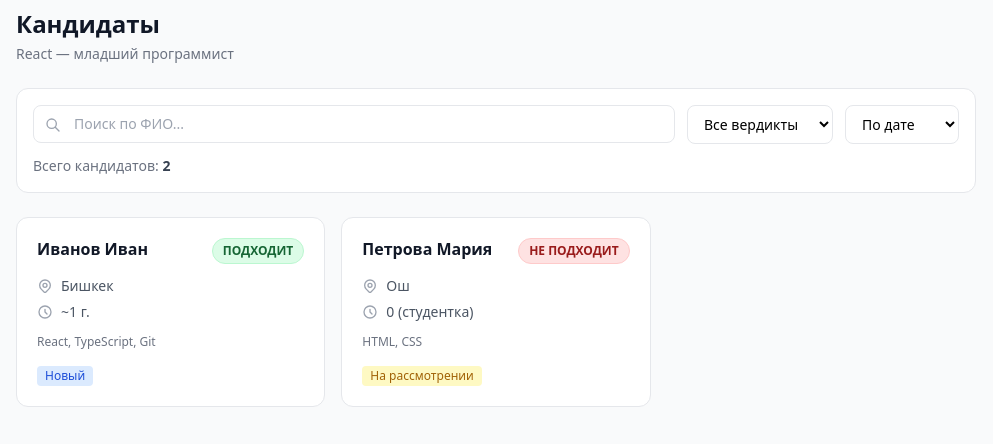
Test: CandidatesPage › shows an empty state when no candidates match
Type "Нет такого" into the search field with placeholder "Поиск по ФИО..." at (354, 124), box [33,105,675,143]
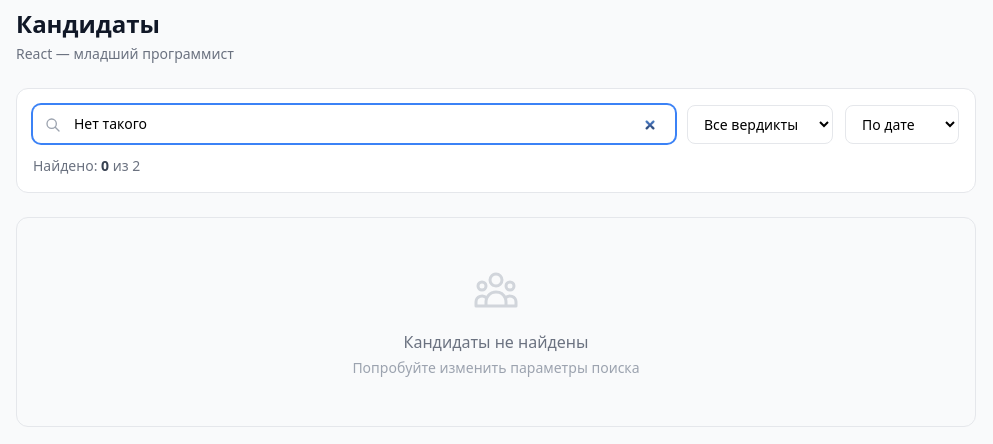
Now the text "Кандидаты не найдены" is shown, box [404,331,588,353]
